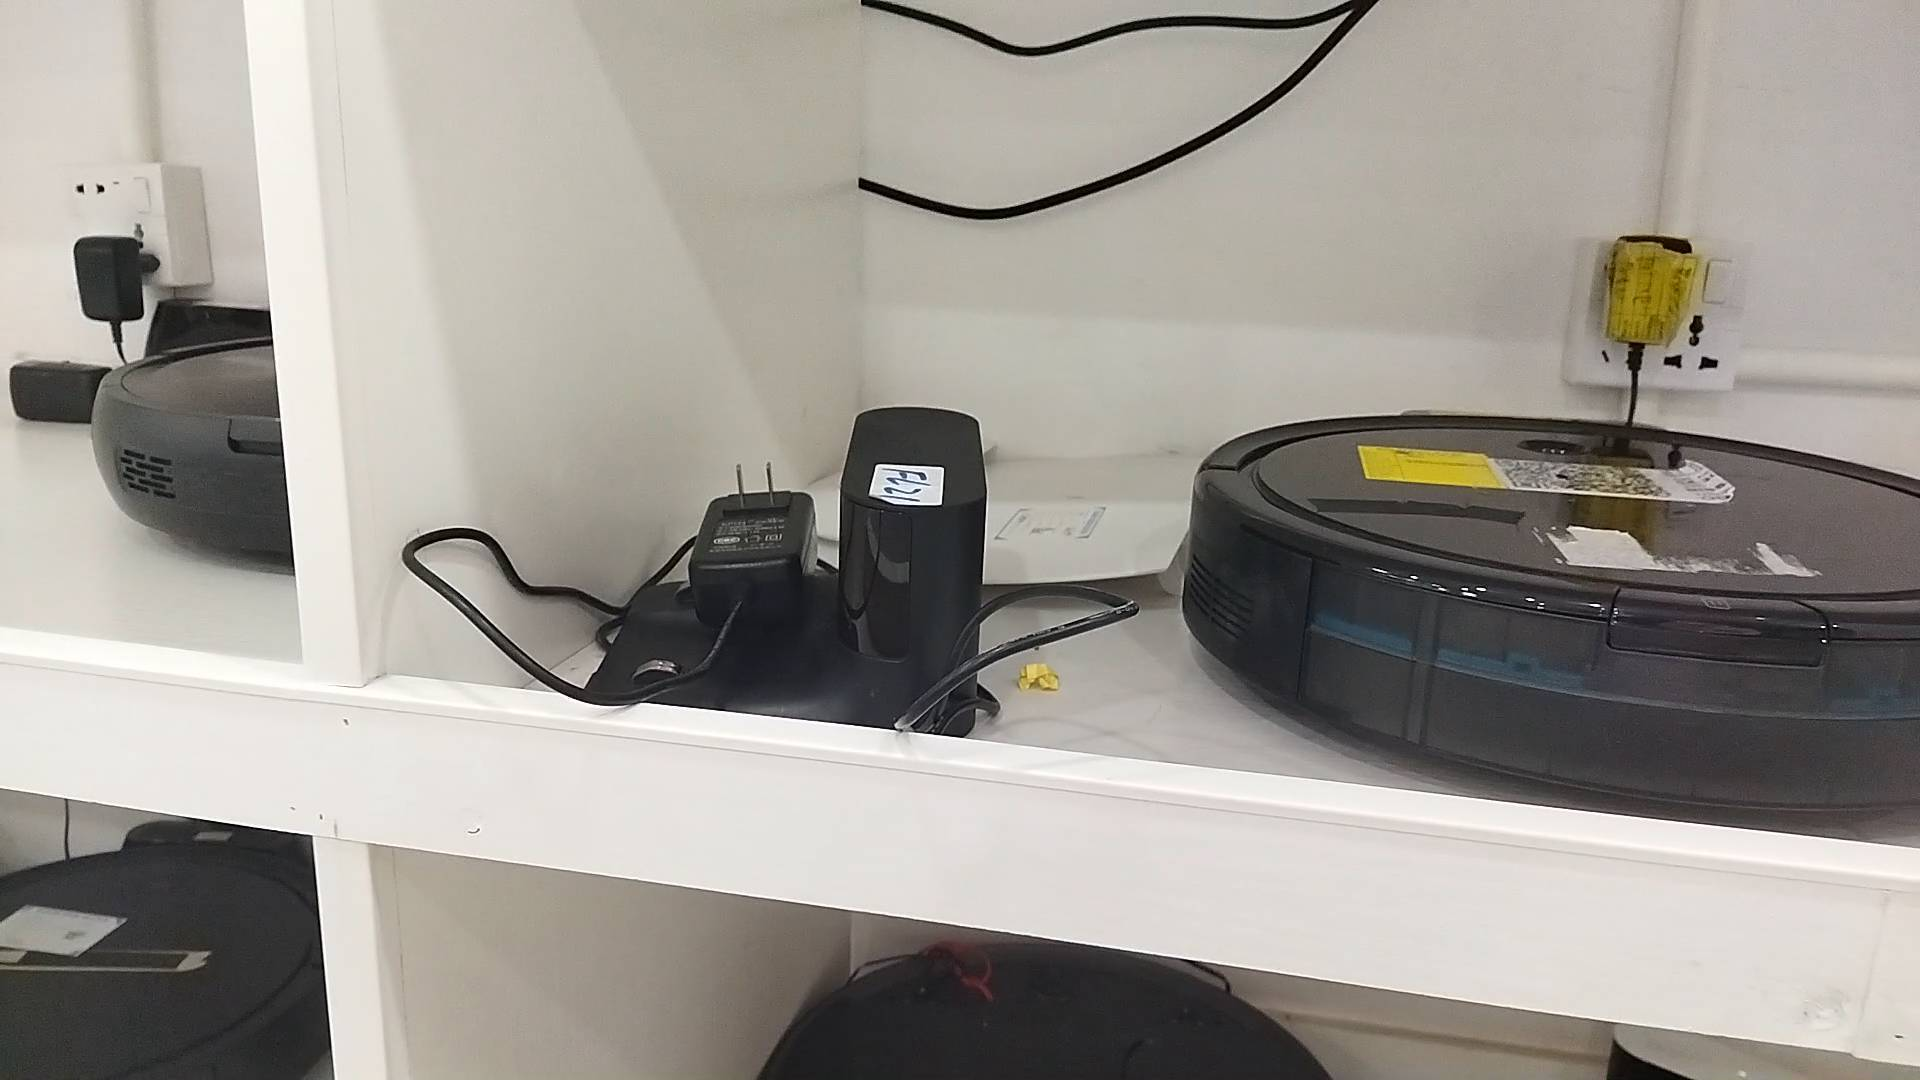recharge seat: (593, 405, 982, 735)
